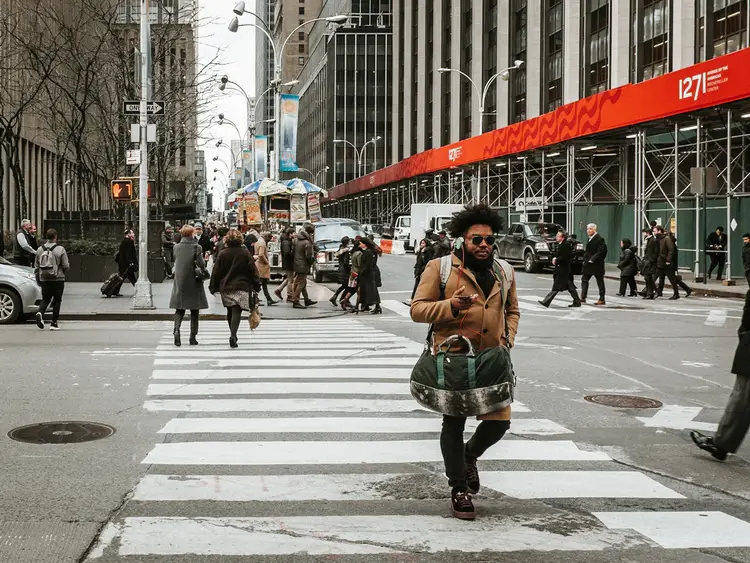person: (407, 203, 536, 526), (687, 275, 750, 464), (207, 227, 265, 351), (169, 221, 207, 351), (30, 230, 76, 336), (101, 223, 143, 300), (543, 230, 583, 306), (291, 221, 325, 310), (351, 233, 386, 317), (577, 222, 607, 307), (653, 222, 680, 300), (328, 230, 354, 306), (613, 236, 643, 300), (276, 222, 298, 301), (702, 224, 733, 280), (15, 215, 41, 271), (412, 235, 433, 285), (159, 222, 174, 275), (738, 231, 750, 286)
